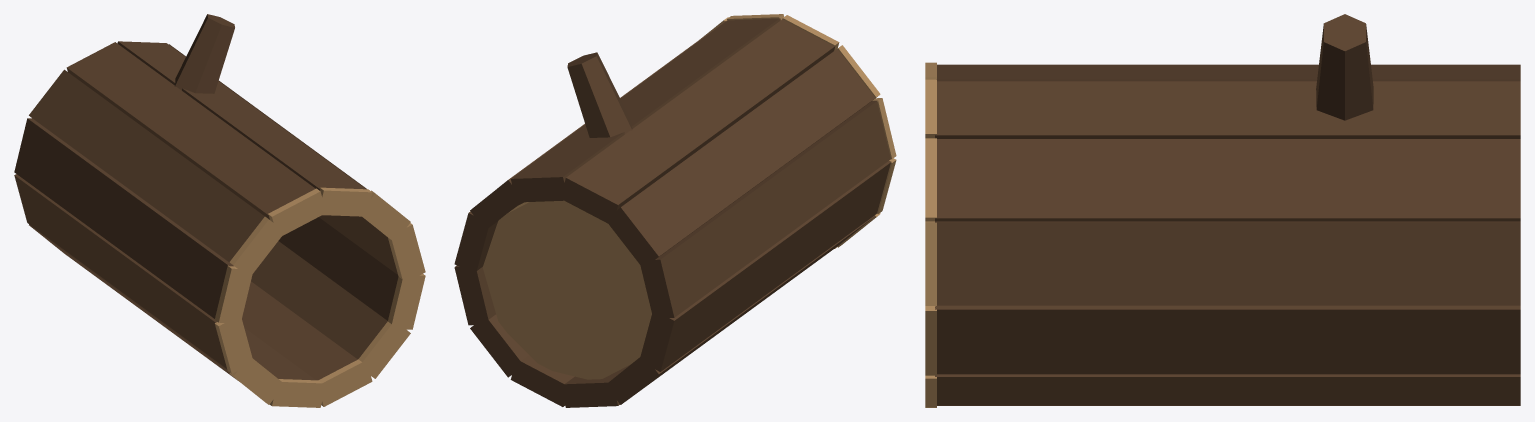
Rendered from Prop_Hoard_Cache_Empty.glb.
3 renders of one model, left to right at view 1: azimuth 30°, elevation 25°; view 2: azimuth 150°, elevation 25°; view 3: azimuth 270°, elevation 25°, orthographic. The views are drawn at different scales.
Parts seen in each view (by area): view 1: Prop_Hoard_Cache_Empty; view 2: Prop_Hoard_Cache_Empty; view 3: Prop_Hoard_Cache_Empty.
Boxes of the visible parts, left/top/right/bottom form: Prop_Hoard_Cache_Empty: left=14, top=14, right=425, bottom=407; Prop_Hoard_Cache_Empty: left=454, top=14, right=896, bottom=407; Prop_Hoard_Cache_Empty: left=925, top=14, right=1520, bottom=407.
Size of what is drawn, in the model's own units: 0.3546 by 0.4522 by 0.61.
